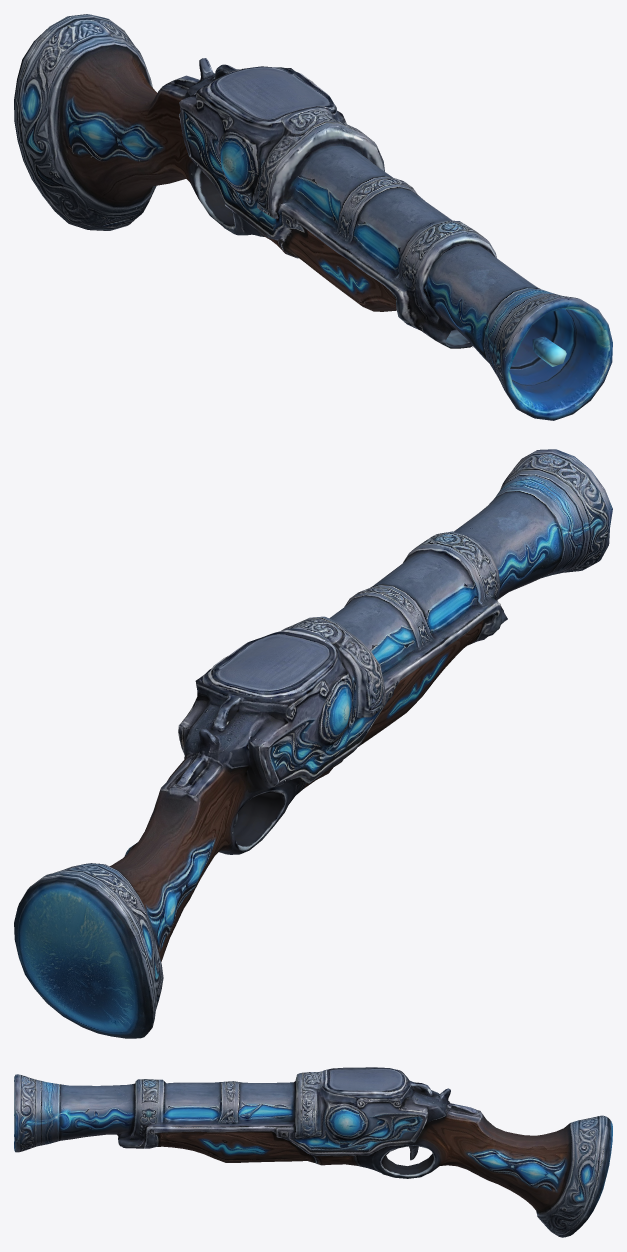
The model's file is tripo_convert_6c5d0e55-f6f7-4b56-a865-56af0c45c8e2.fbx.
3 renders of one model, top to bottom at view 1: azimuth 30°, elevation 25°; view 2: azimuth 150°, elevation 25°; view 3: azimuth 270°, elevation 25°, orthographic. The views are drawn at different scales.
Visible parts, largest first — view 1: tripo_node_6c5d0e55; view 2: tripo_node_6c5d0e55; view 3: tripo_node_6c5d0e55.
Part boxes in pixels (x1=…): tripo_node_6c5d0e55: x1=14, y1=14, x2=612, y2=420; tripo_node_6c5d0e55: x1=14, y1=449, x2=612, y2=1038; tripo_node_6c5d0e55: x1=14, y1=1067, x2=612, y2=1237.
Size of the model in its own units: 0.1538 by 0.2921 by 0.9984.
